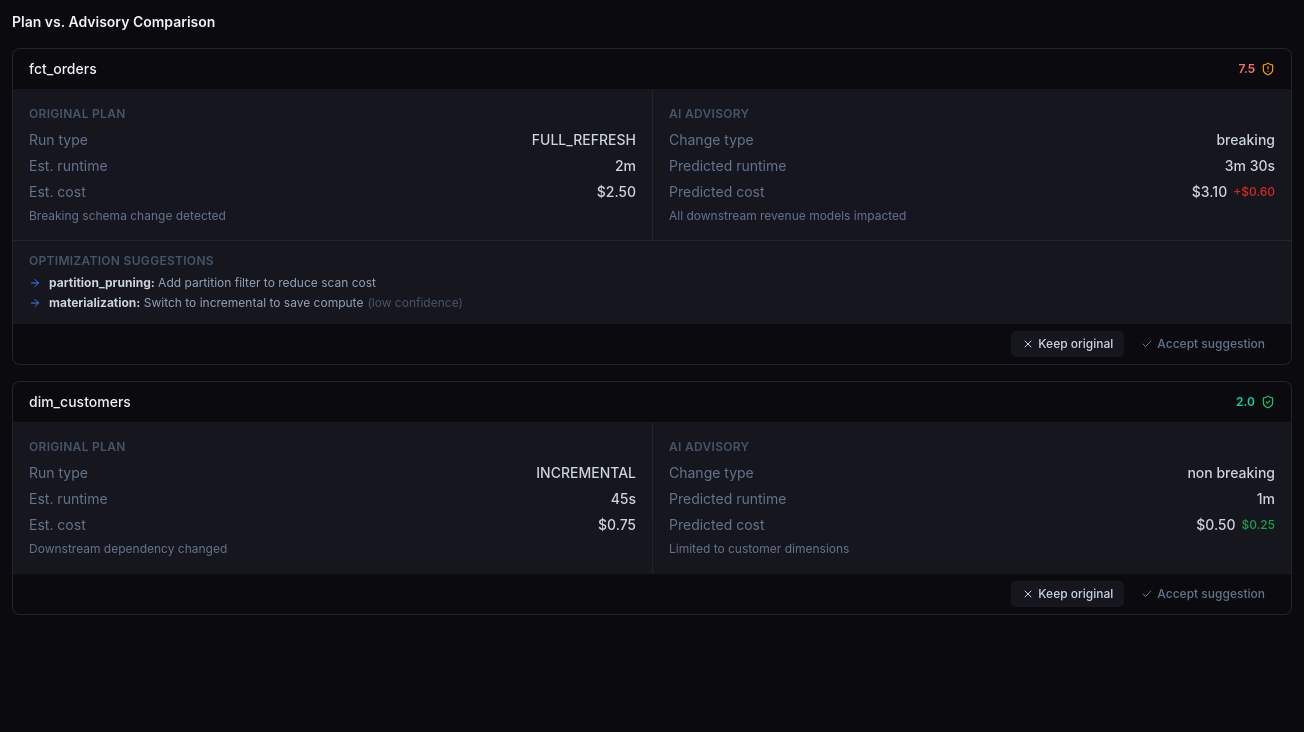
Test: PlanComparison › shows "Apply N suggestions" button after accepting suggestions
This screenshot has width=1304, height=732.
Note: Click "Accept suggestion" for the first step
Click the button "Accept suggestion" below "All downstream revenue models impacted". click: (1203, 344)
box: [1131,332,1275,356]
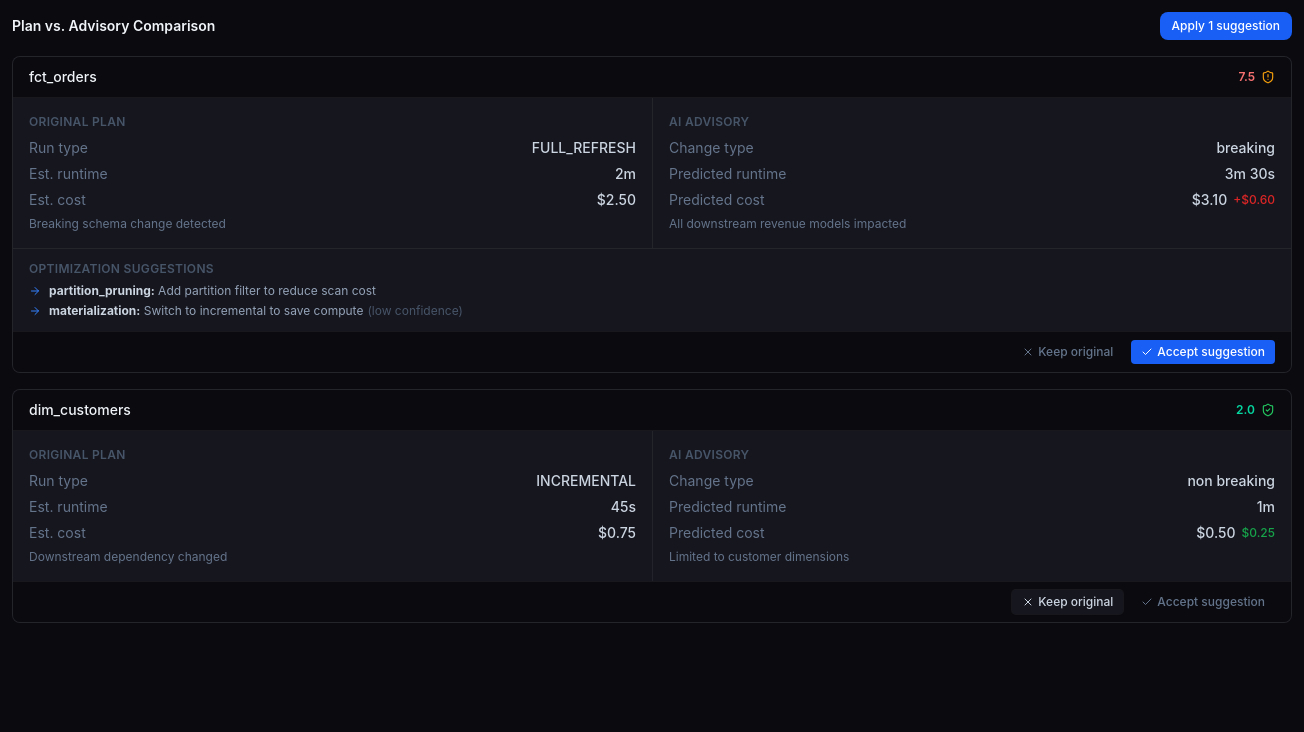
Expected: the button "Apply 1 suggestion" is shown, [1160,12,1292,40]
